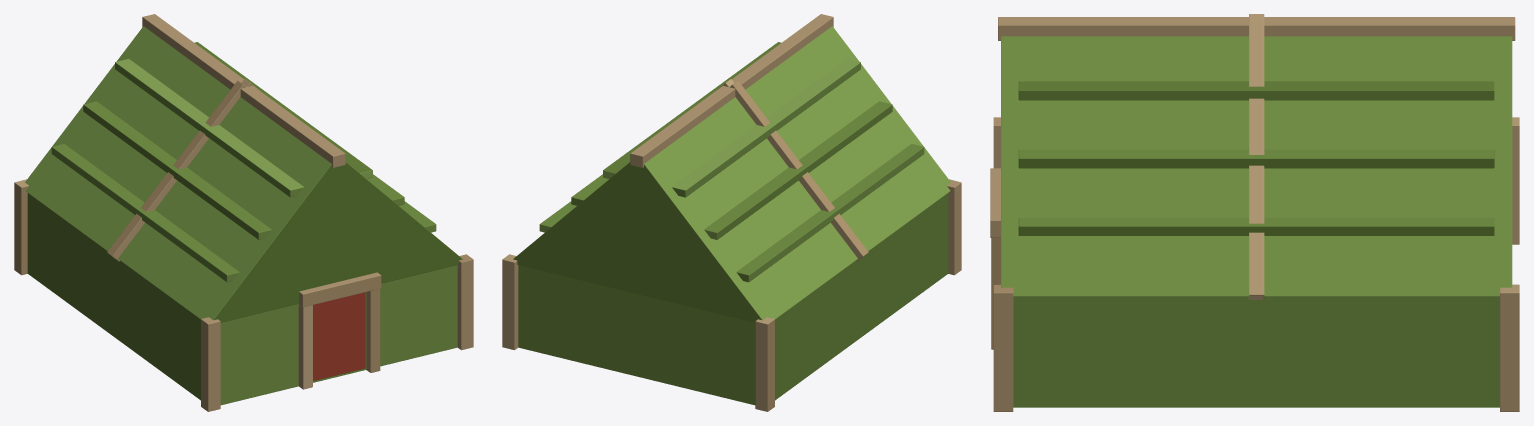
File: House_Meso_b.fbx
3 renders of one model, left to right at view 1: azimuth 30°, elevation 25°; view 2: azimuth 150°, elevation 25°; view 3: azimuth 270°, elevation 25°, orthographic. The views are drawn at different scales.
Visible parts, largest first — view 1: House_Meso_b; view 2: House_Meso_b; view 3: House_Meso_b.
Part boxes in pixels (left/top/right/bottom): House_Meso_b: left=14, top=14, right=473, bottom=411; House_Meso_b: left=502, top=14, right=961, bottom=411; House_Meso_b: left=990, top=14, right=1519, bottom=411.
Size of what is drawn, in the model's own units: 3.82 by 3.09 by 4.81.
